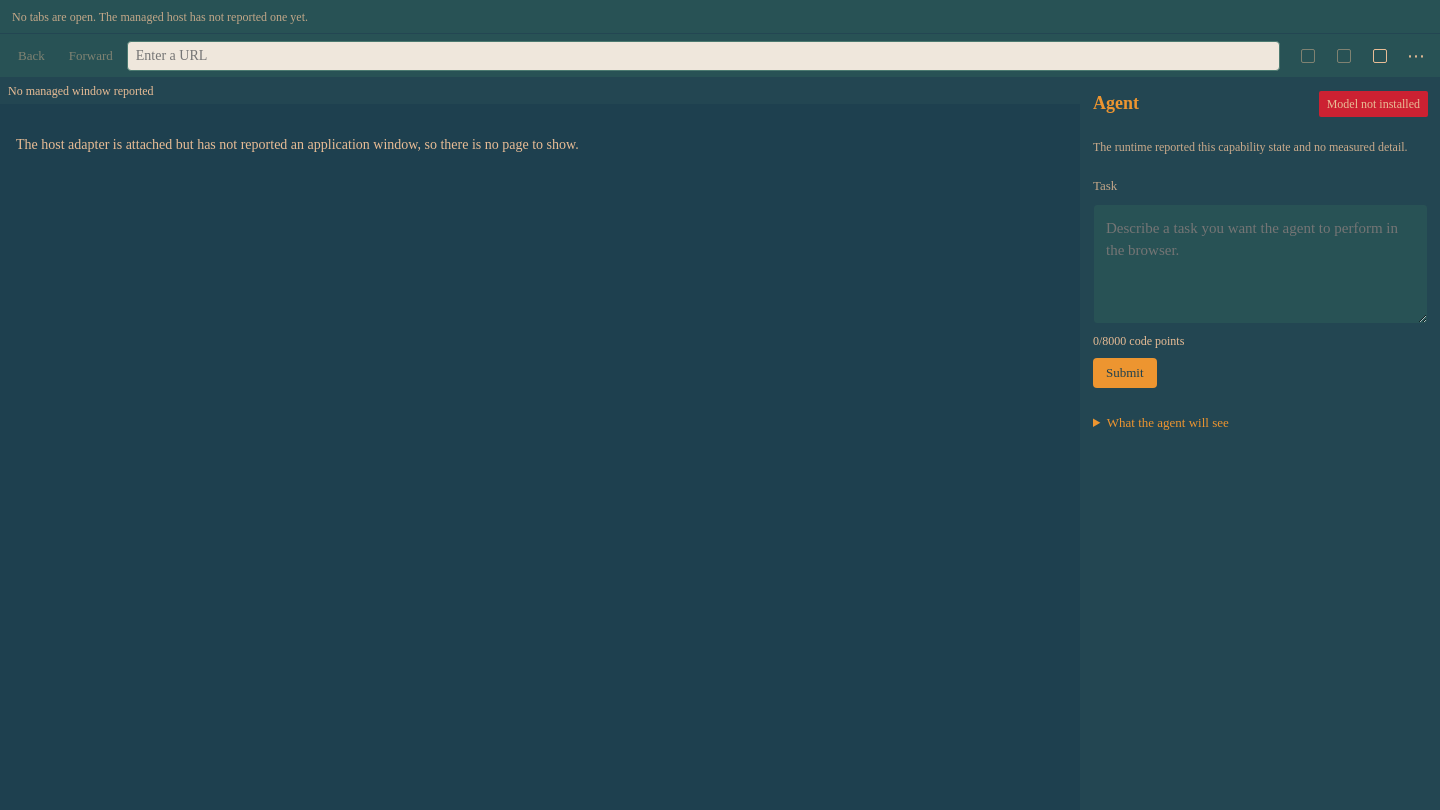
Test: secondary screens render real runtime data › lists downloads with their provenance and reported progress
What coordinates should you click on to do the following:
click the button named "Menu"
I would click on:
 (1416, 56)
Its box is [1400,40,1432,72].
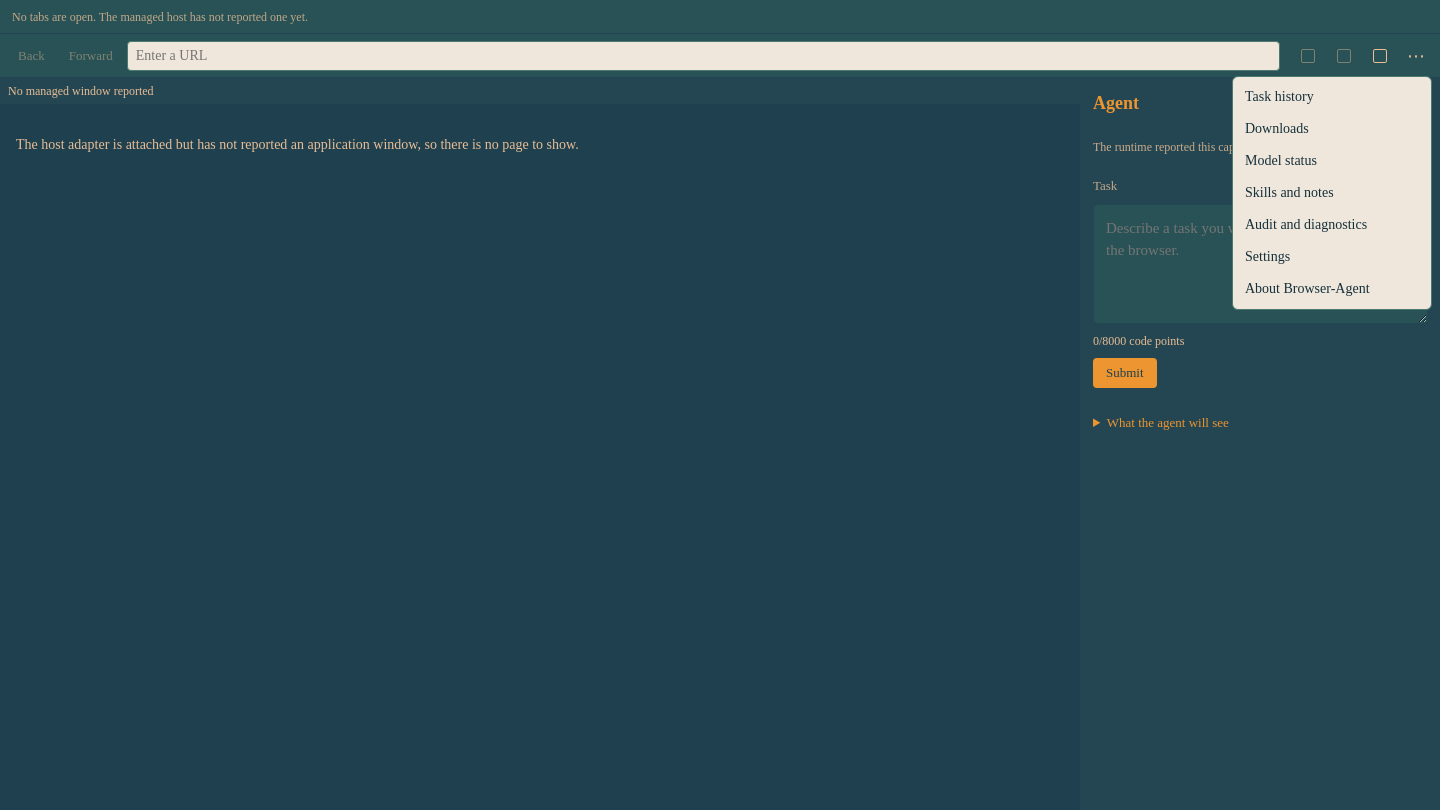
What coordinates should you click on to do the following:
click the menu item "Downloads"
I would click on:
 (1332, 128)
Its box is [1233,112,1431,144].
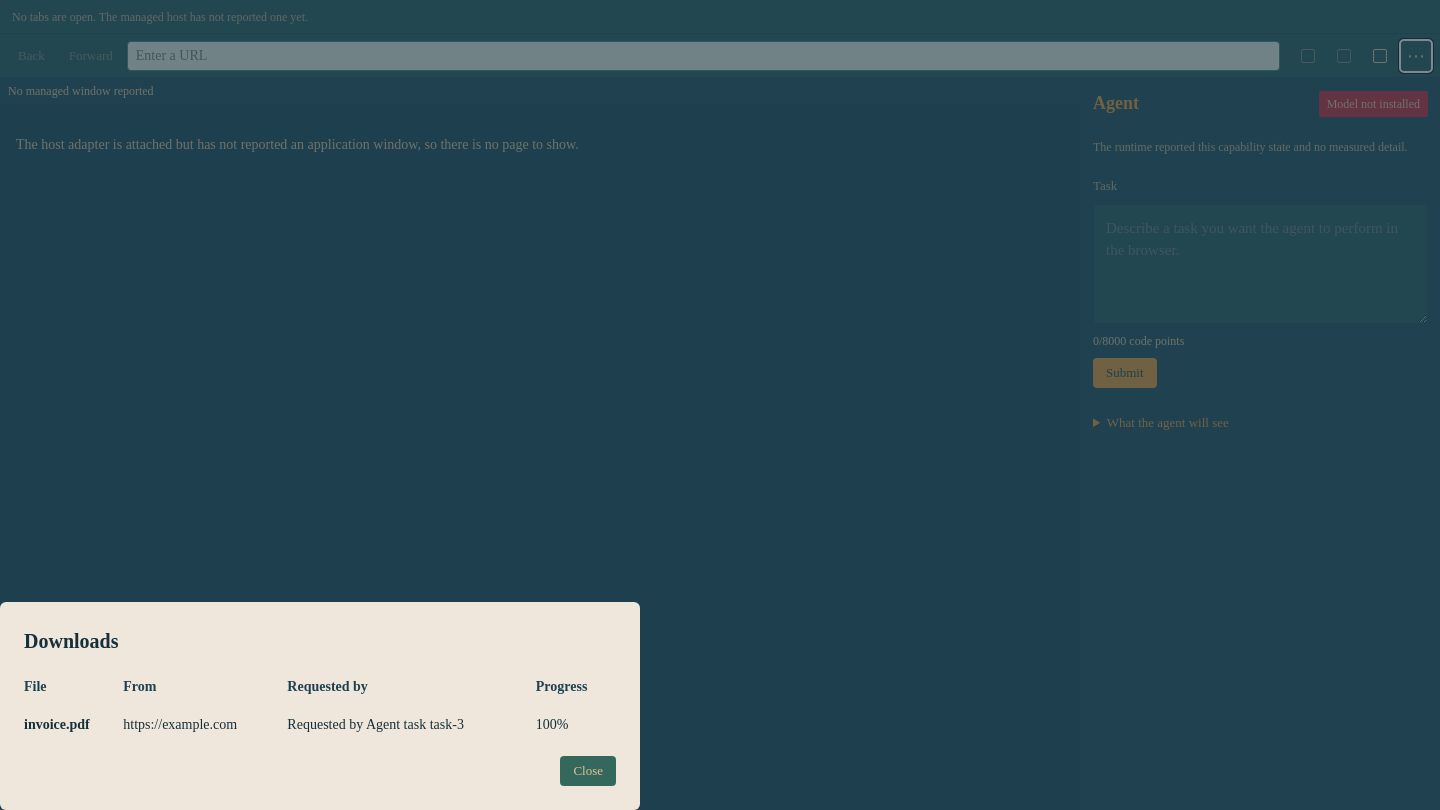
Check: the text "invoice.pdf" is shown, box [24,706,123,744]
Check: the text "Requested by Agent task task-3" is shown, box [287,706,536,744]
